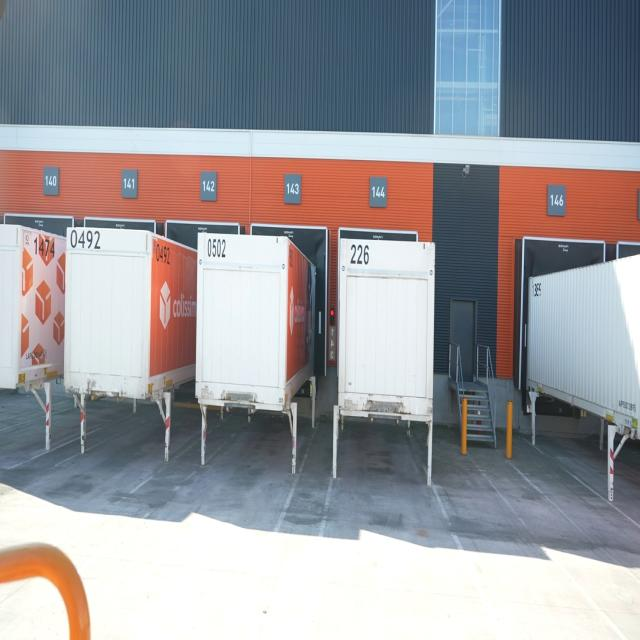Code: (70, 224, 104, 254), (26, 231, 58, 260), (203, 230, 230, 263), (348, 242, 372, 269), (152, 240, 173, 269)
